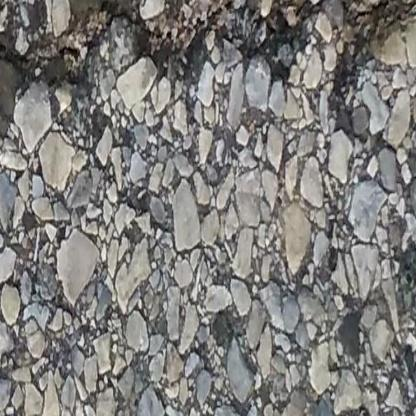Cracks: (0, 0, 412, 95)
